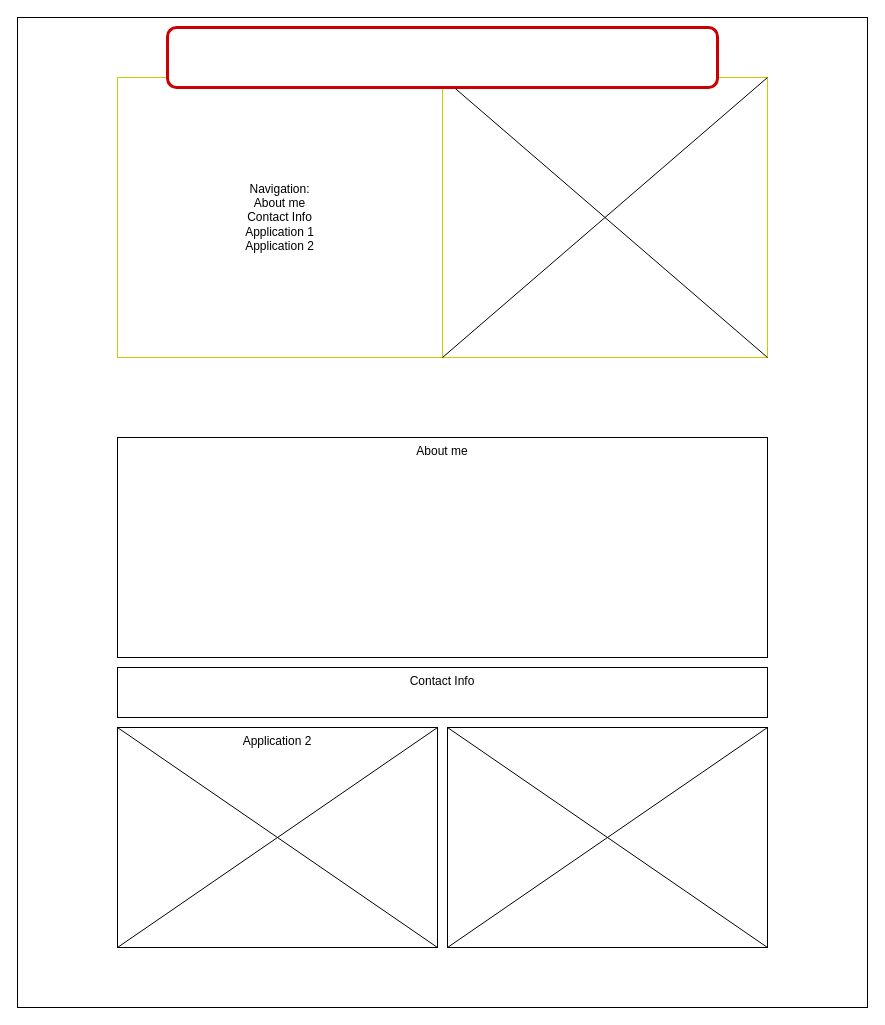
Some shapes in this 885 by 1025 pixel diagram are drawn without their labels. The centre of each missing label's shape, as x and y in pixels:
"Abigail Turnwall-Peloquin" belongs at (442,57).
"Application 3" belongs at (607,837).
